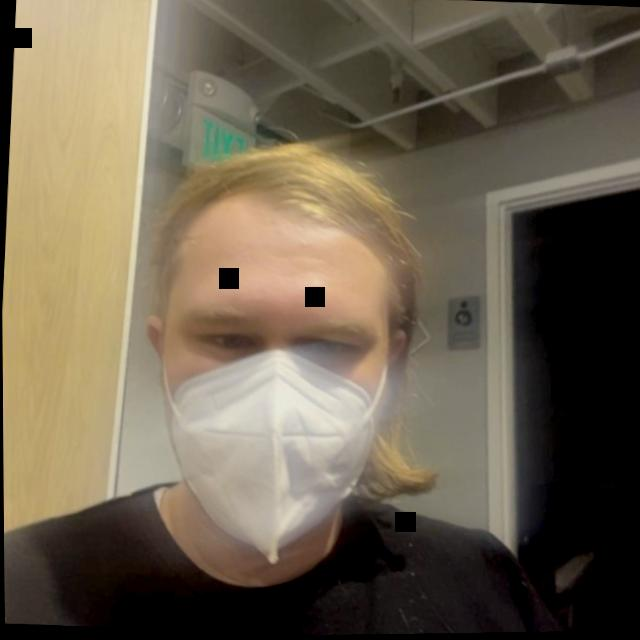Mask: (104, 139, 464, 621)
